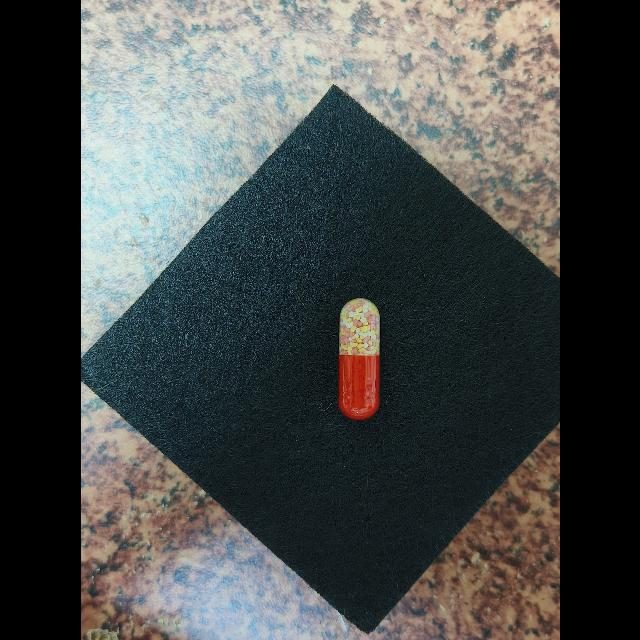Intact Capsule: (338, 298, 379, 420)
